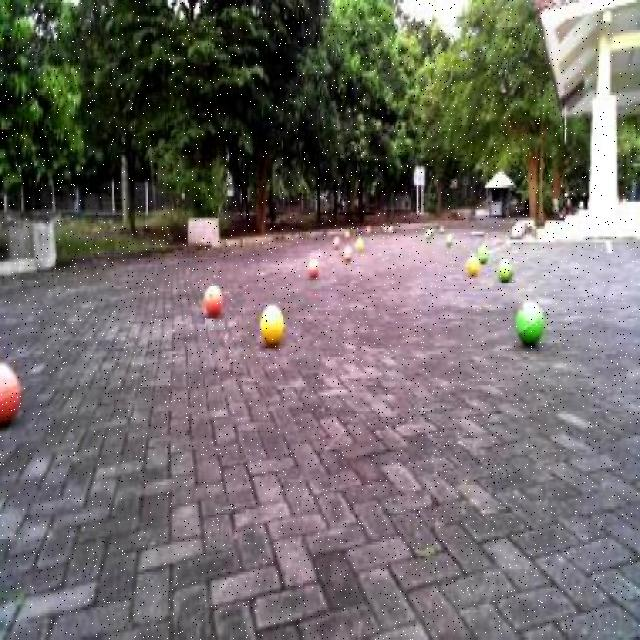buoy: (0, 343, 24, 438), (511, 292, 547, 354), (256, 294, 286, 352), (200, 279, 224, 317), (496, 256, 514, 286), (466, 248, 481, 278), (306, 252, 321, 278)
